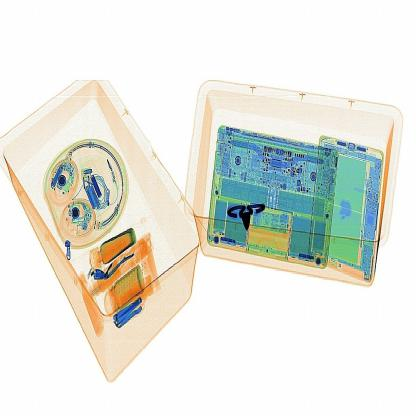gun: (220, 192, 264, 236)
